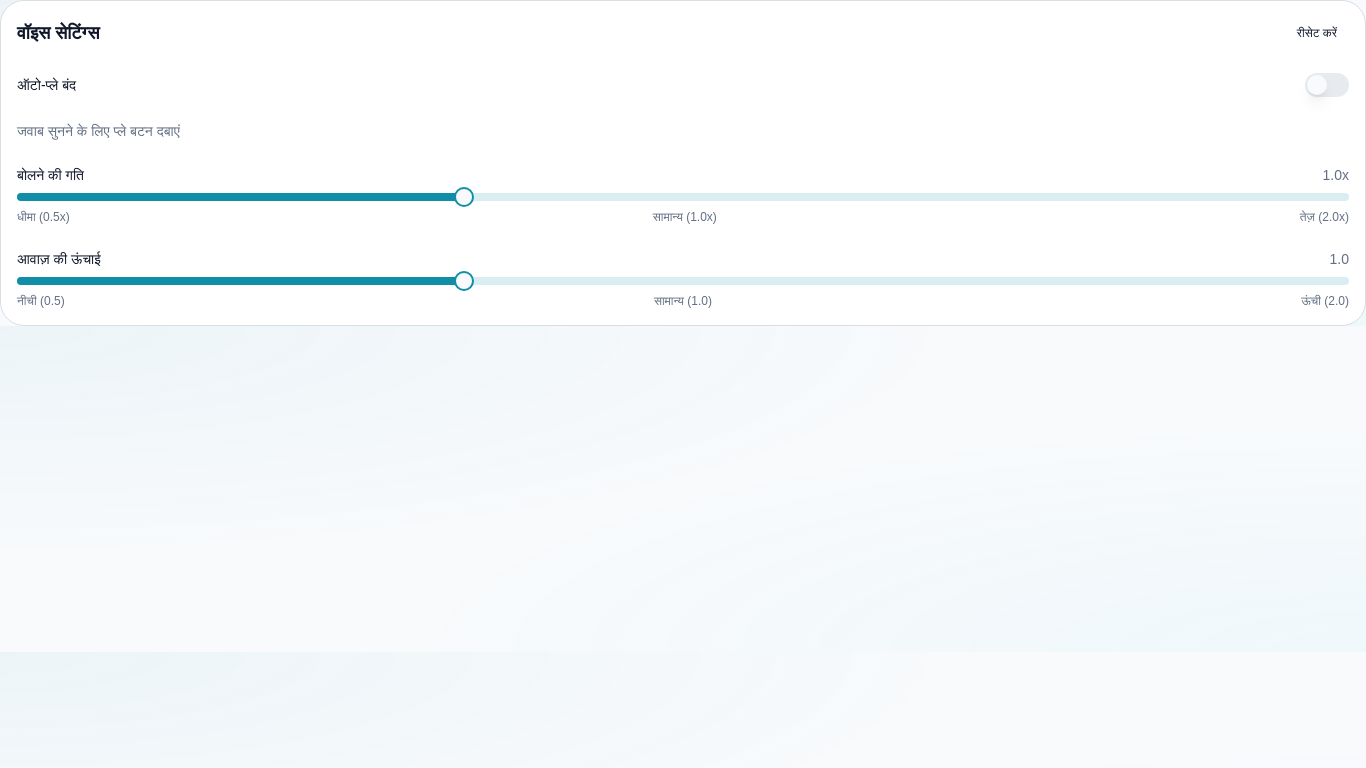
Test: VoiceOutputPreferences Component › Auto-play Toggle › should show appropriate message when auto-play is on
Click the switch at {"x": 1327, "y": 85}, box [1305,73,1349,97]
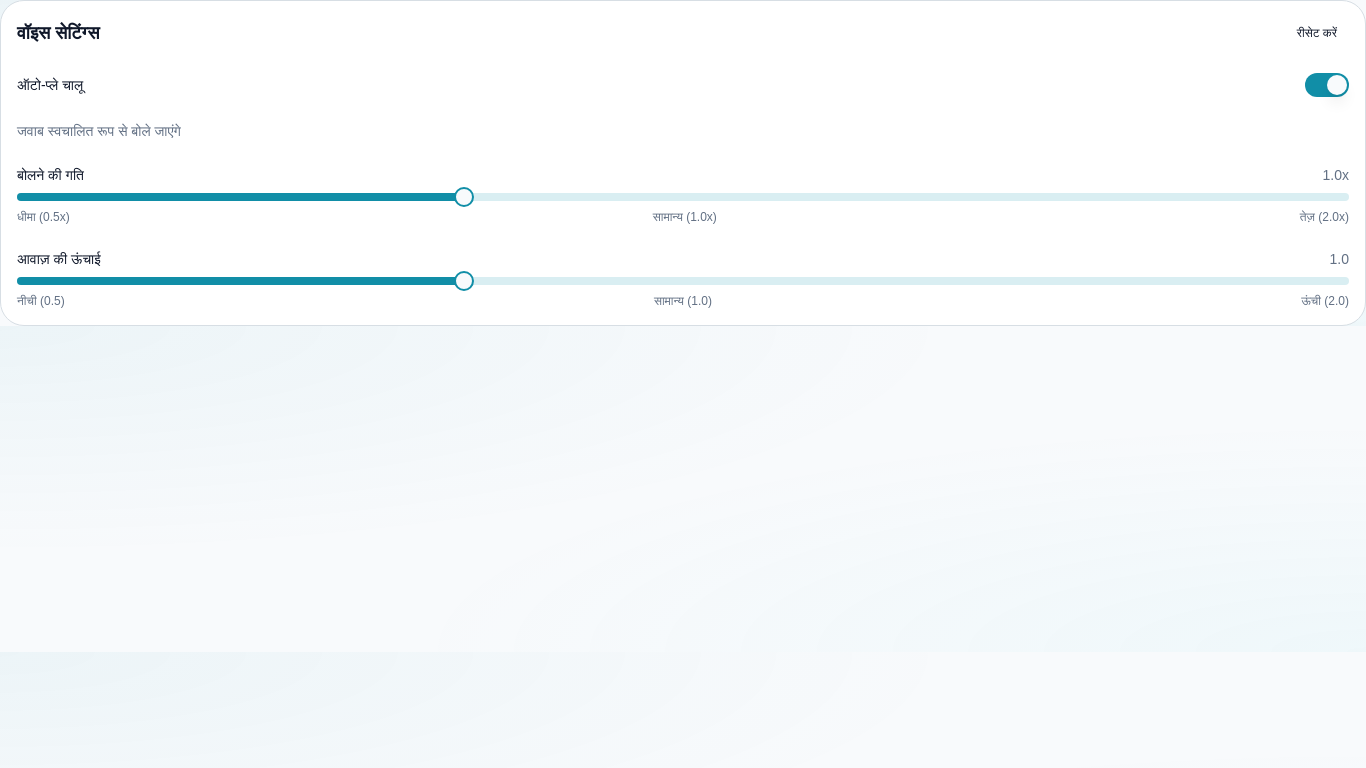
Check: the text "जवाब स्वचालित रूप से बोले जाएंगे" is shown, box [17,123,181,139]
